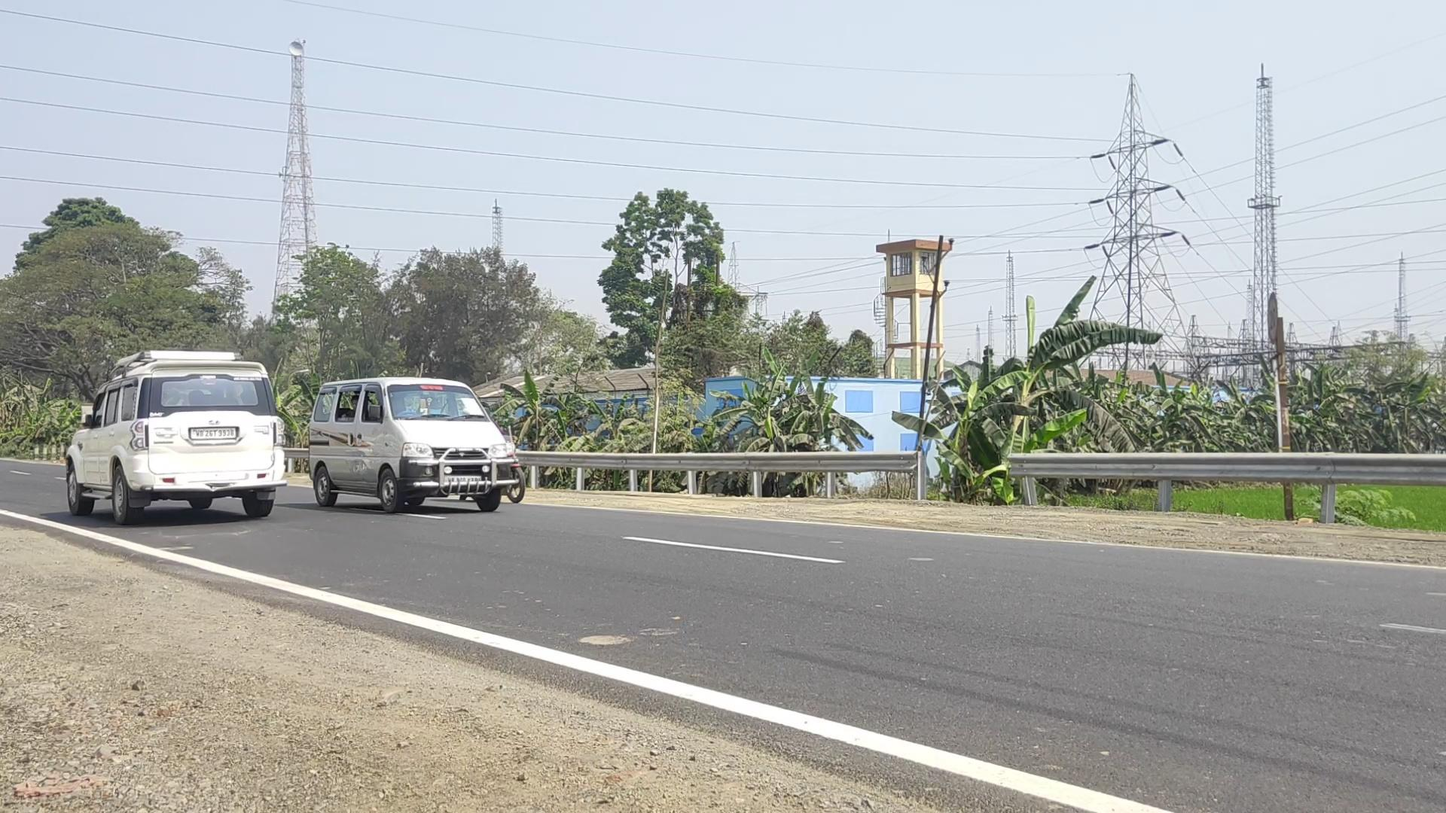car: (65, 349, 288, 526)
van: (307, 376, 520, 514)
